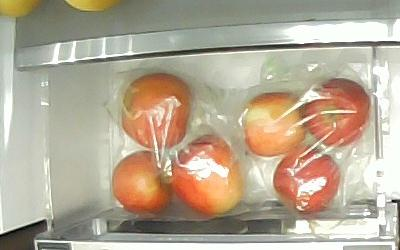apple_vinyl: (166, 133, 245, 216), (120, 70, 192, 150), (298, 76, 371, 147), (272, 142, 341, 213), (239, 90, 306, 157), (110, 149, 173, 215)
